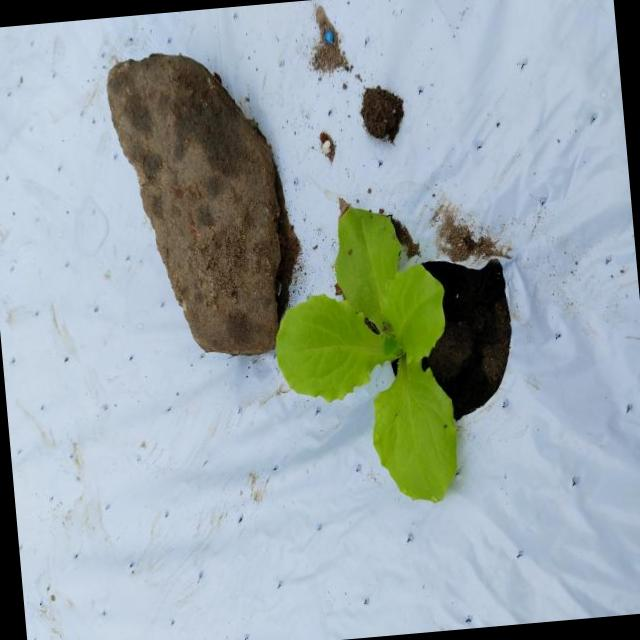Lettuce-Not-Ready-to-Harvest: (276, 208, 456, 498)
